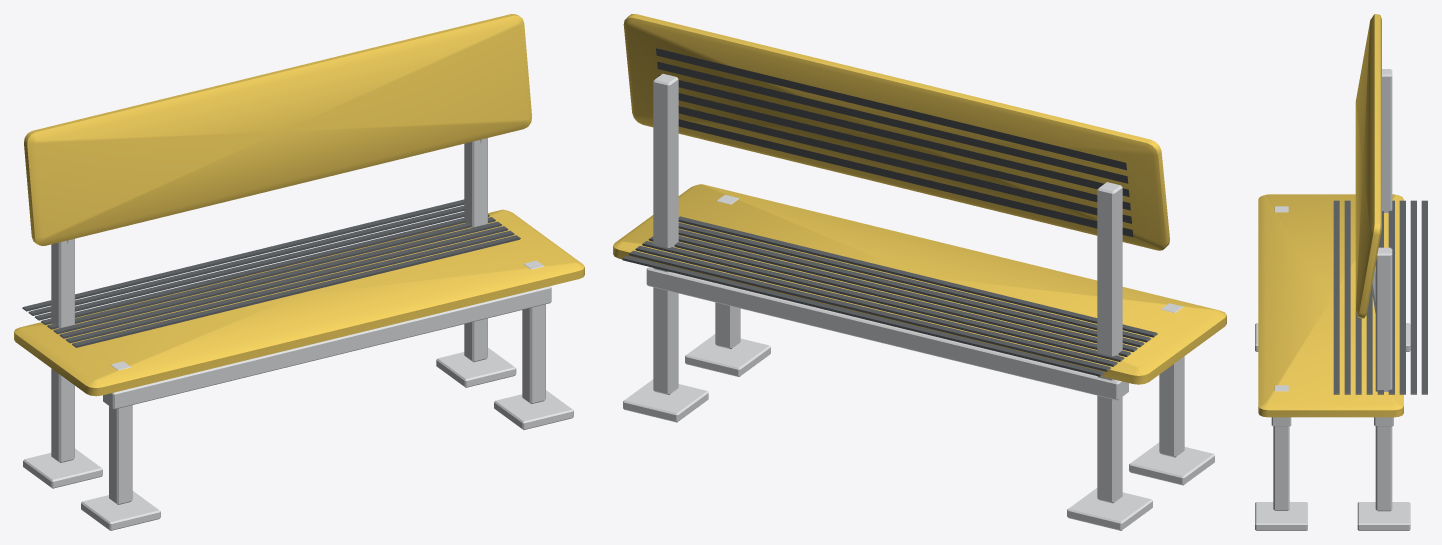
File: laundrette-and-cleaning-seating-bench-moulded-5fc23802__25542.glb
3 renders of one model, left to right at view 1: azimuth 30°, elevation 25°; view 2: azimuth 150°, elevation 25°; view 3: azimuth 270°, elevation 25°, orthographic. The views are drawn at different scales.
Parts seen in each view (by area): view 1: seating-bench-moulded; view 2: seating-bench-moulded; view 3: seating-bench-moulded.
Part boxes in pixels (<box>): seating-bench-moulded: <box>14,14,584,530</box>; seating-bench-moulded: <box>613,14,1226,530</box>; seating-bench-moulded: <box>1255,14,1427,530</box>.
Size of the model in its own units: 1.54 by 1.04 by 0.5226.
